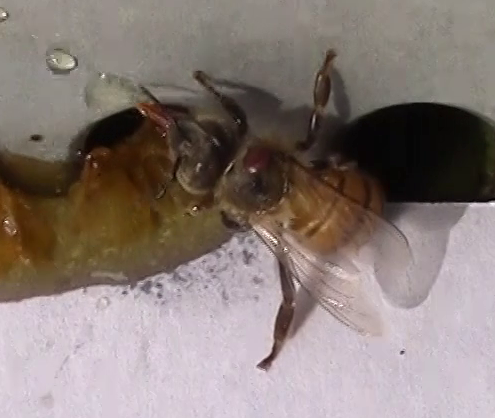Varroa destructor: (239, 144, 276, 177)
